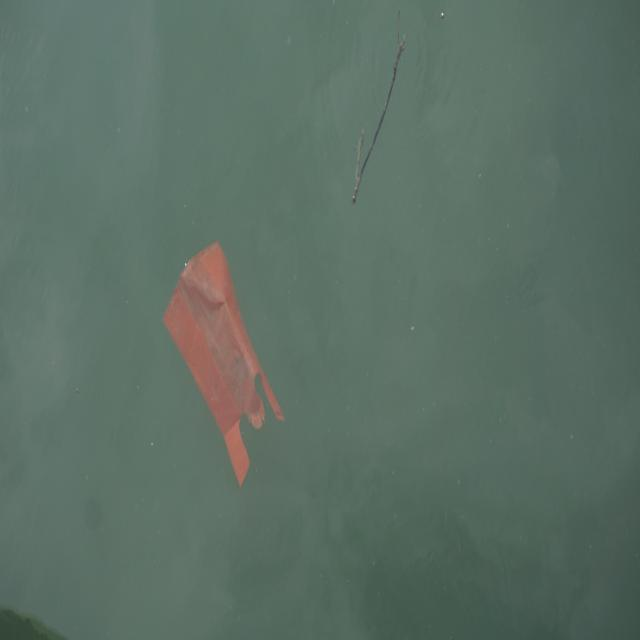Kantong Plastik: (164, 236, 286, 491)
